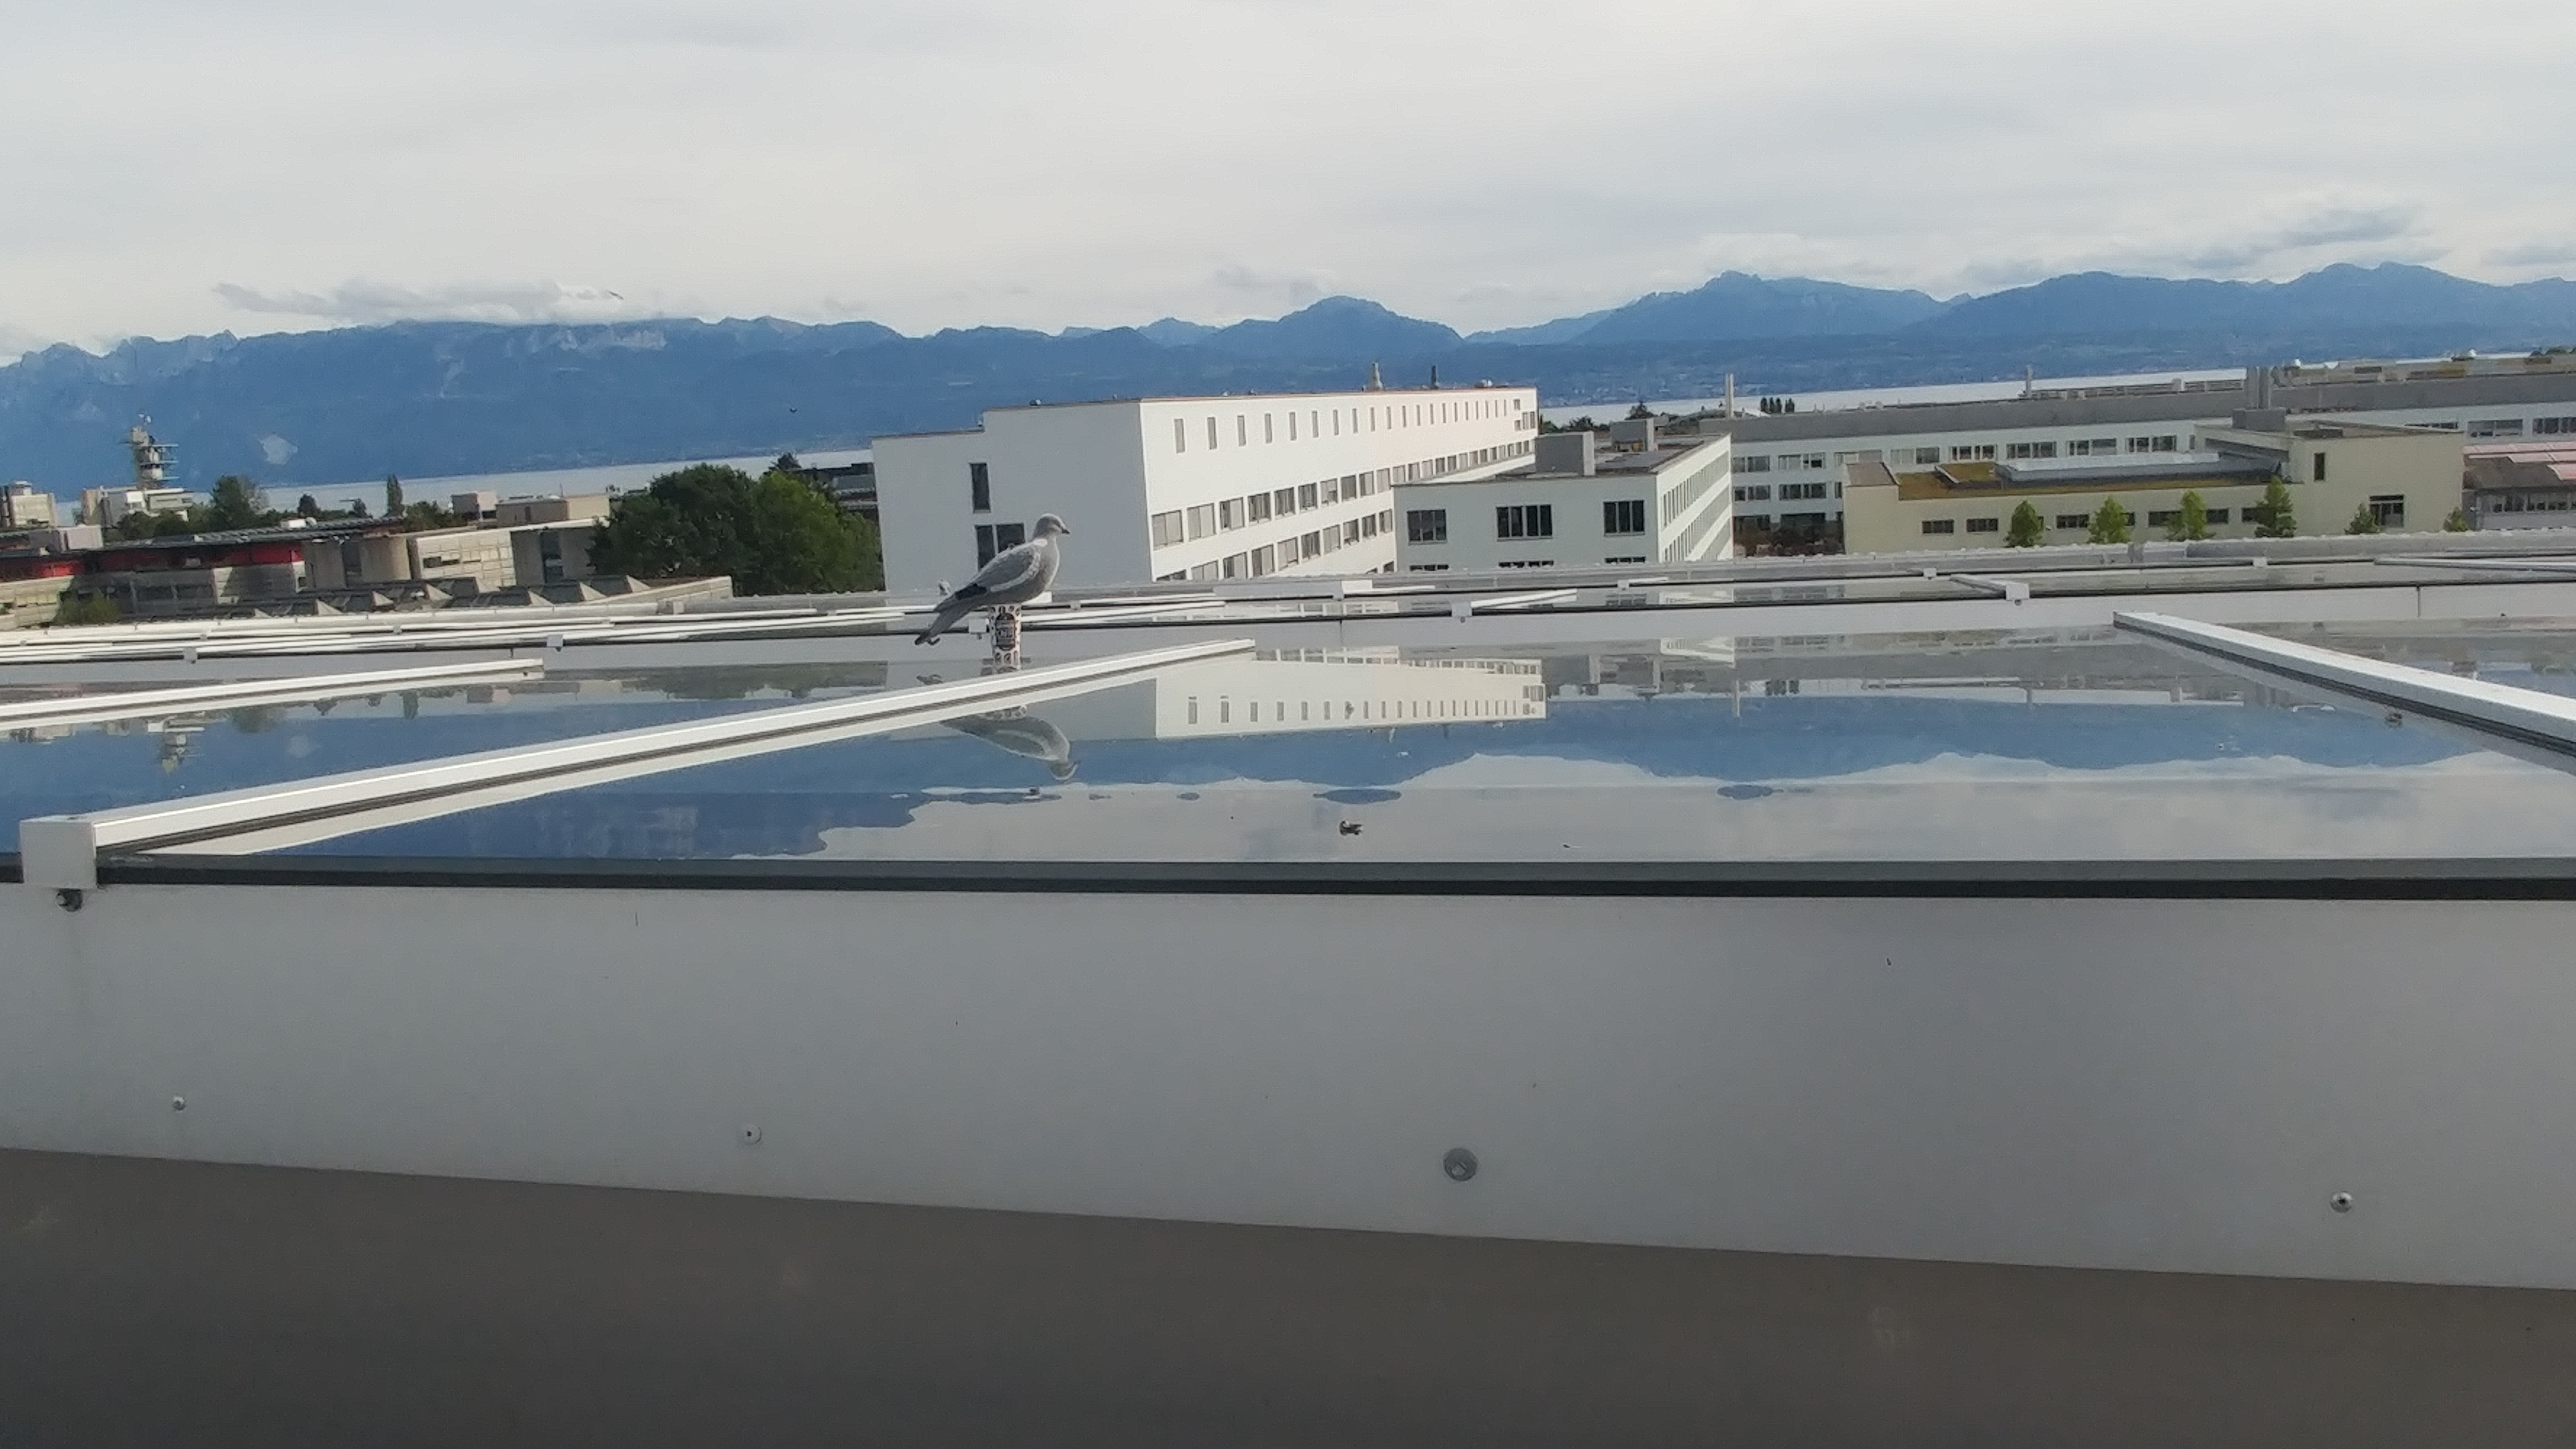Pigeon: (931, 511, 1070, 628)
